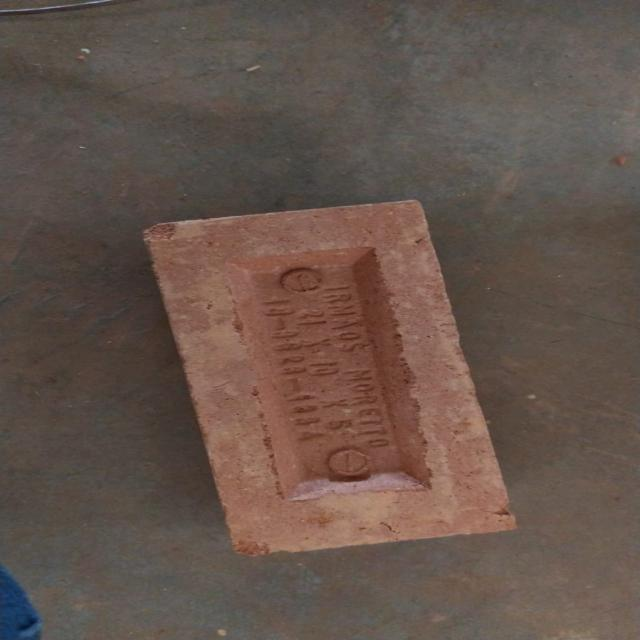bricks: (144, 199, 525, 556)
